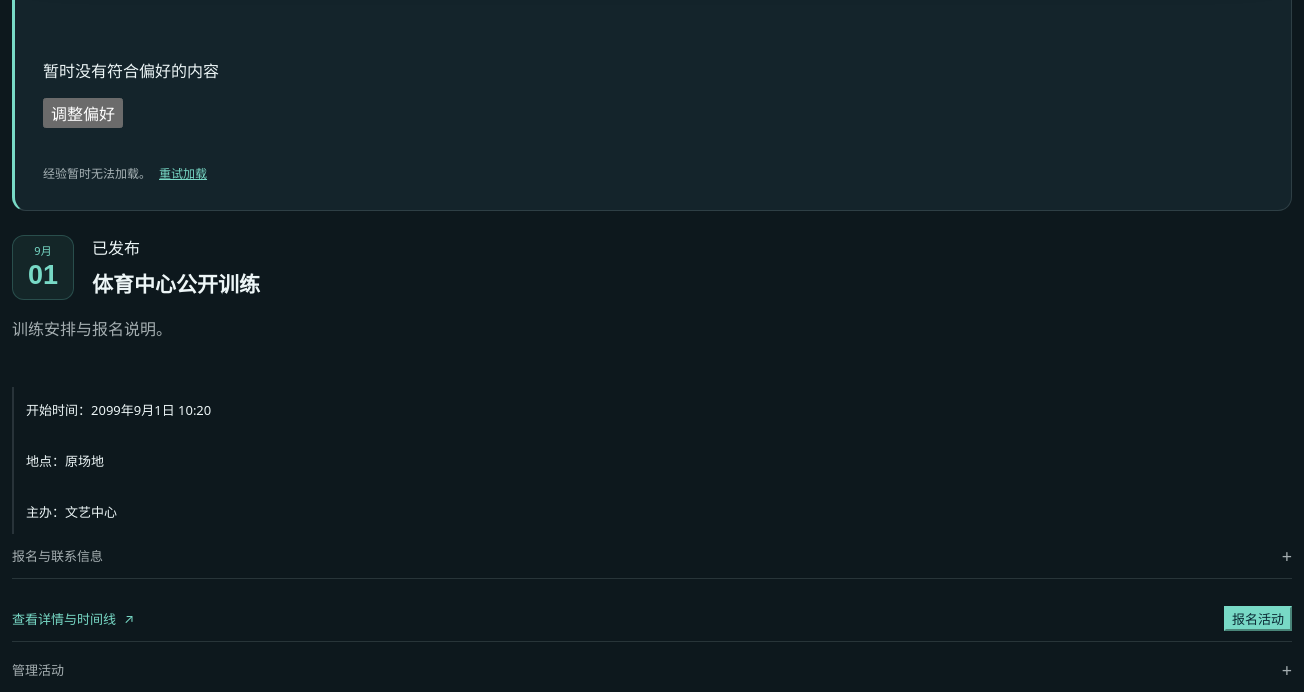
EventsPage › preserves global business admin editing and honors explicit update denies
(page scrolled)
Click the heading "管理活动": (38, 670) [12, 661, 64, 679]
(page scrolled)
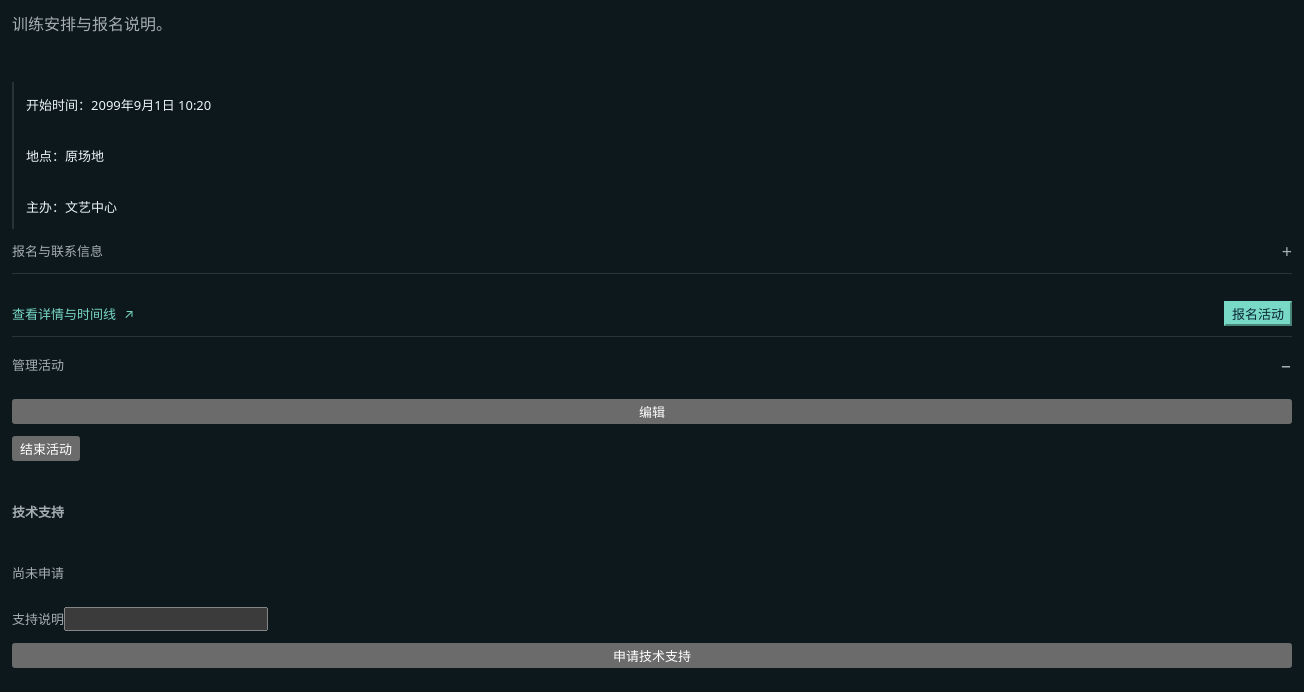
expect the button with aria-label "编辑体育中心公开训练" is shown: met, box [12, 399, 1292, 424]
